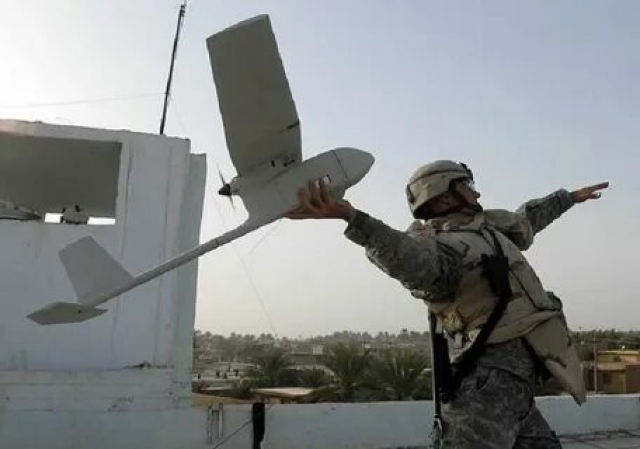military drone: (24, 12, 374, 325)
